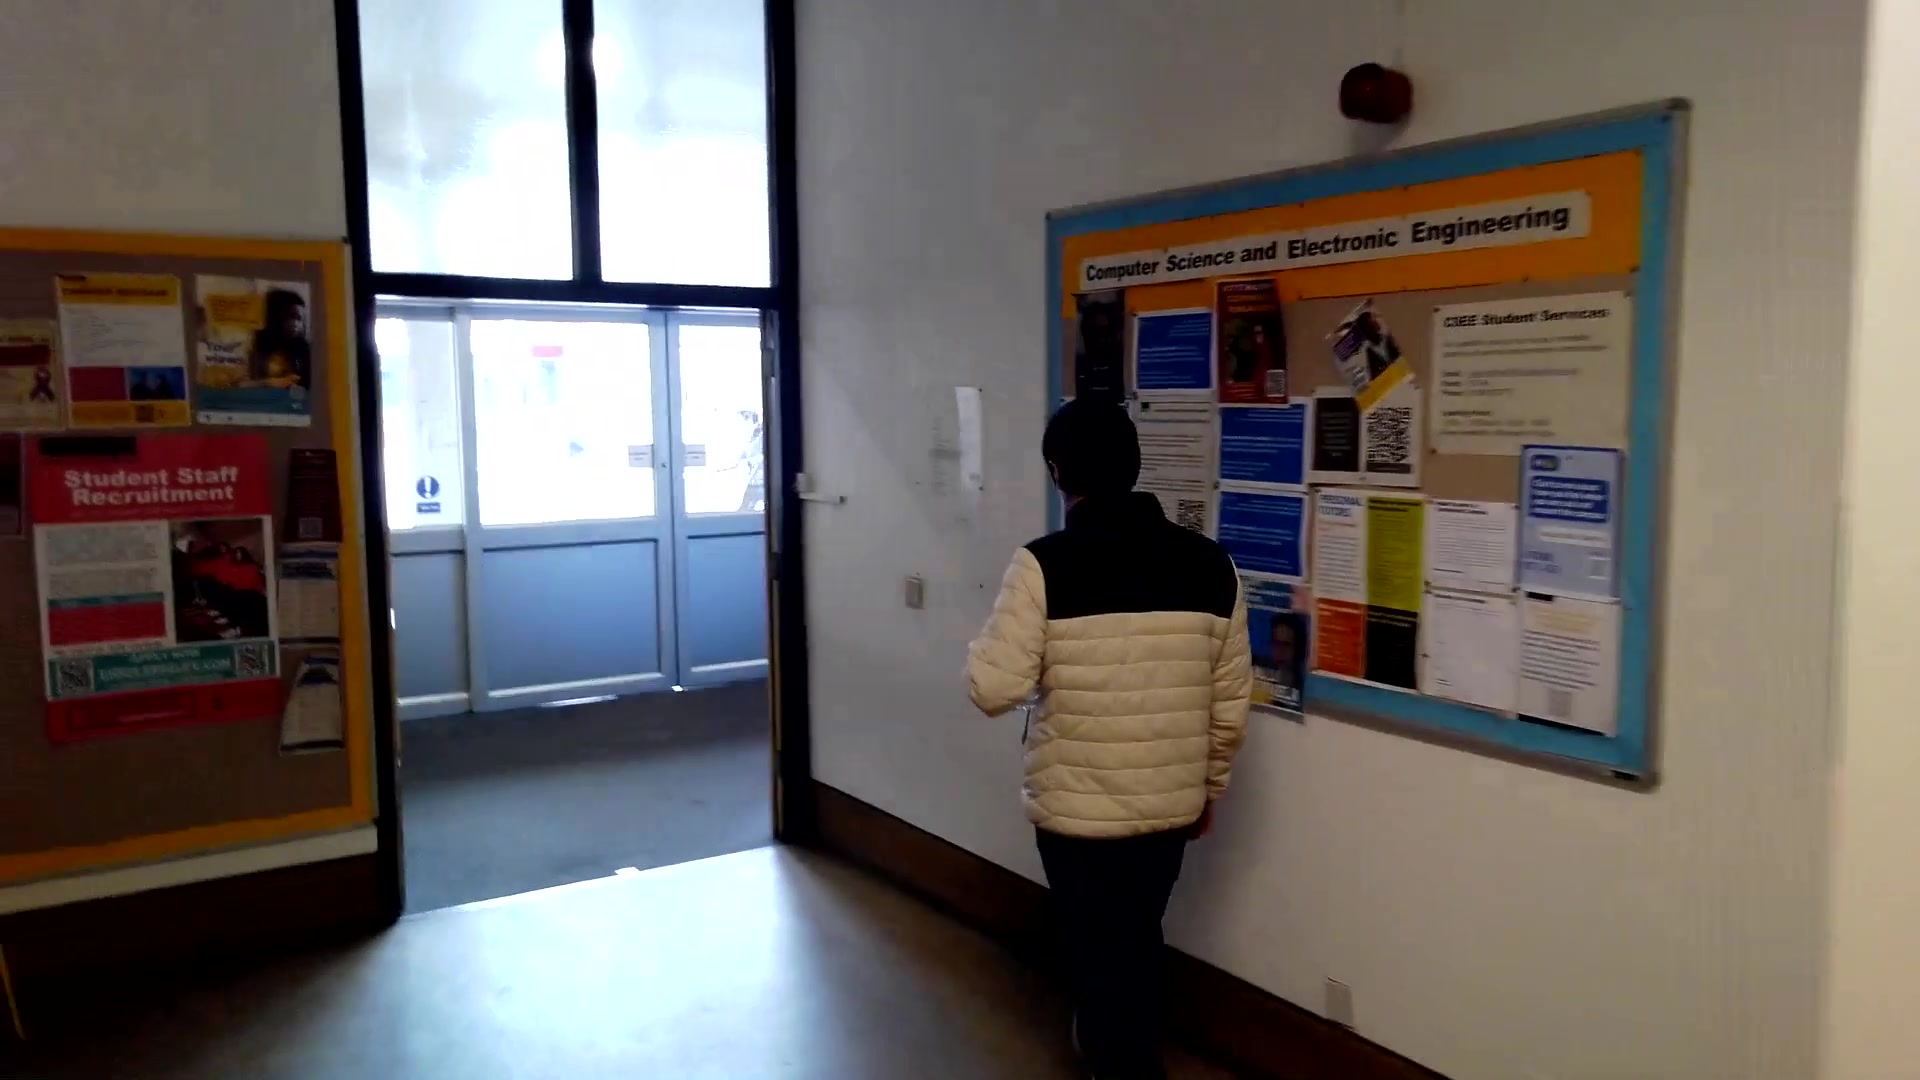Person: (1010, 386, 1244, 1042)
